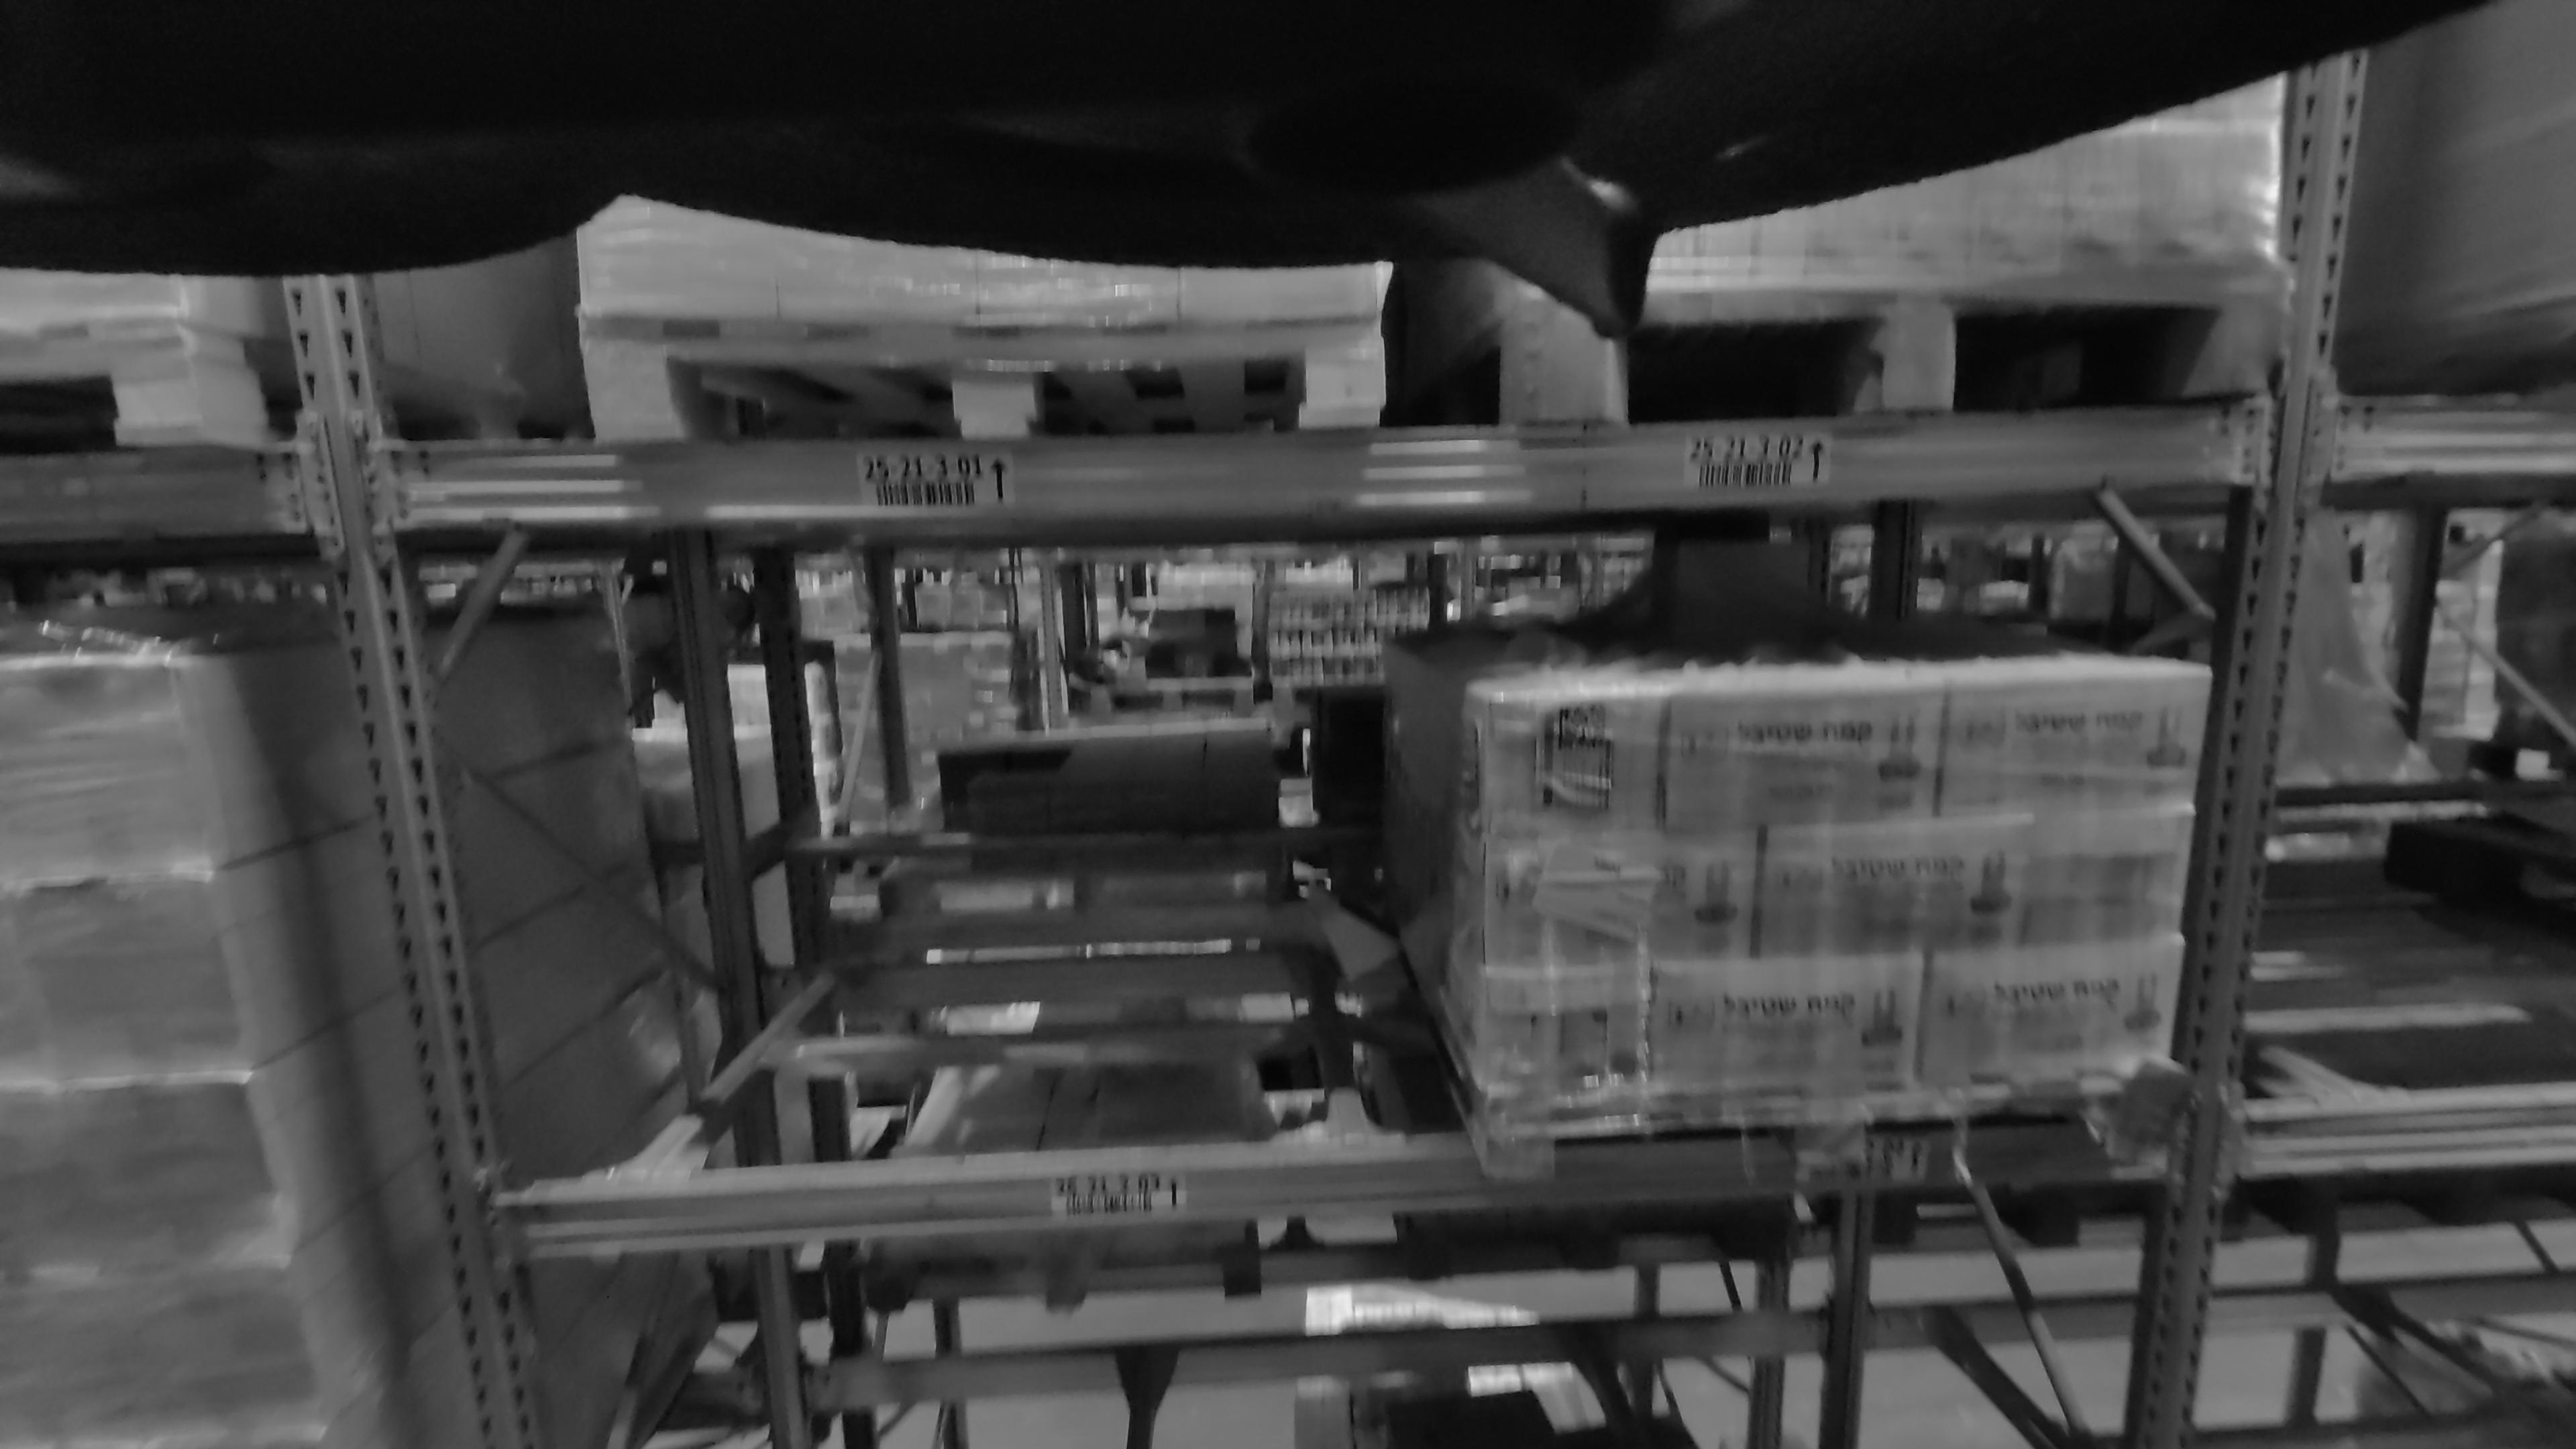empty-shelf: (630, 566, 1369, 1150), (2302, 518, 2576, 1083)
